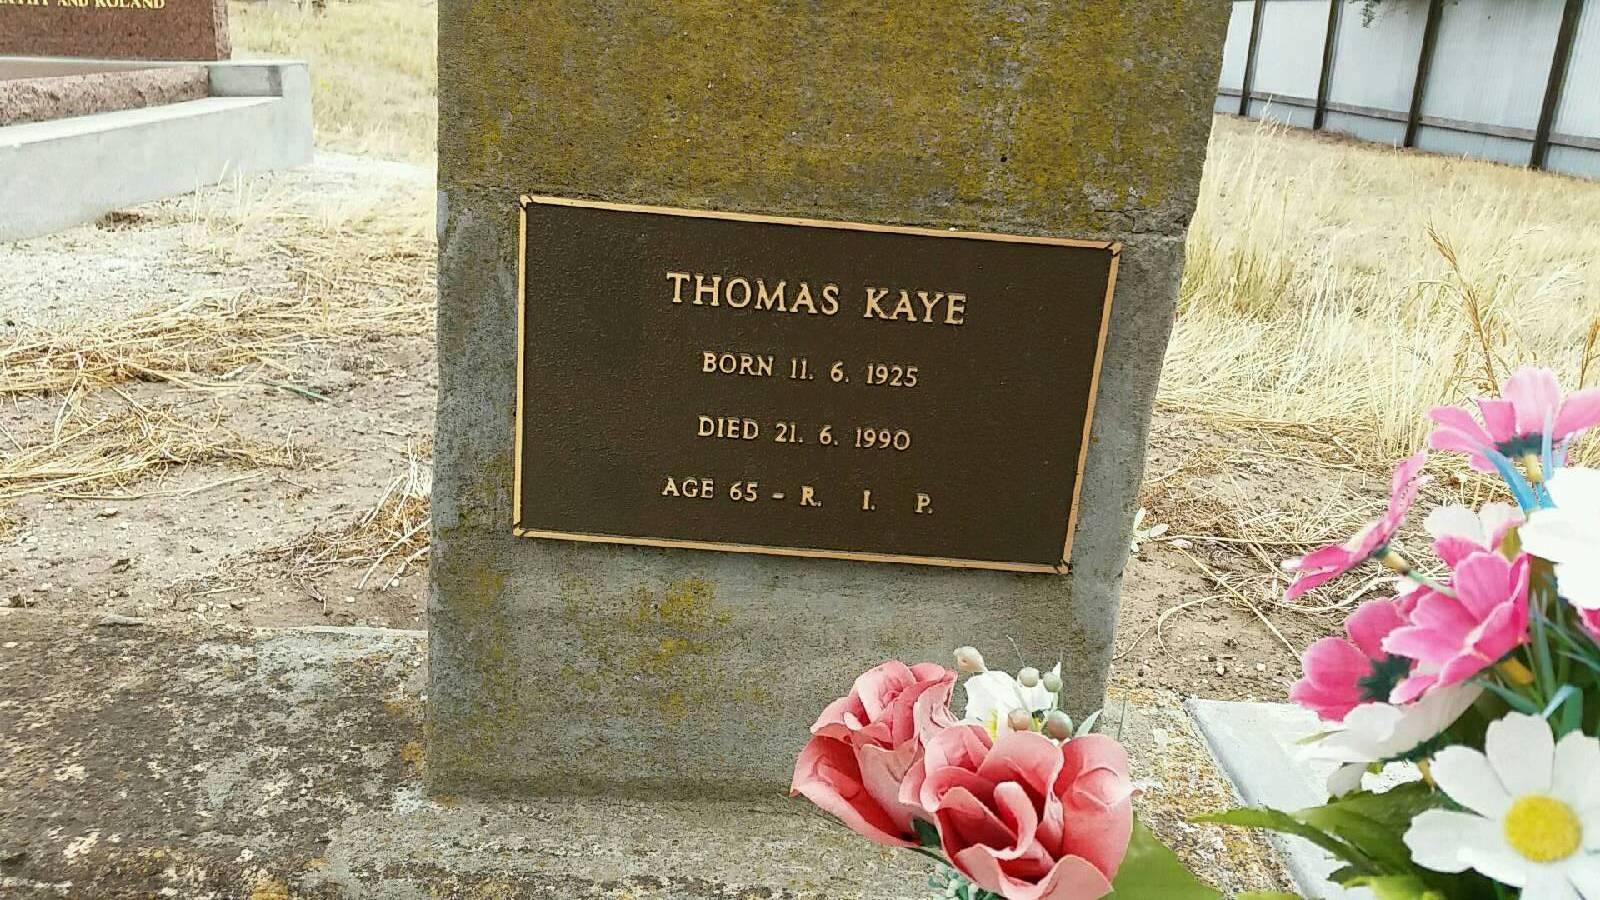plaque: (473, 155, 1130, 595)
